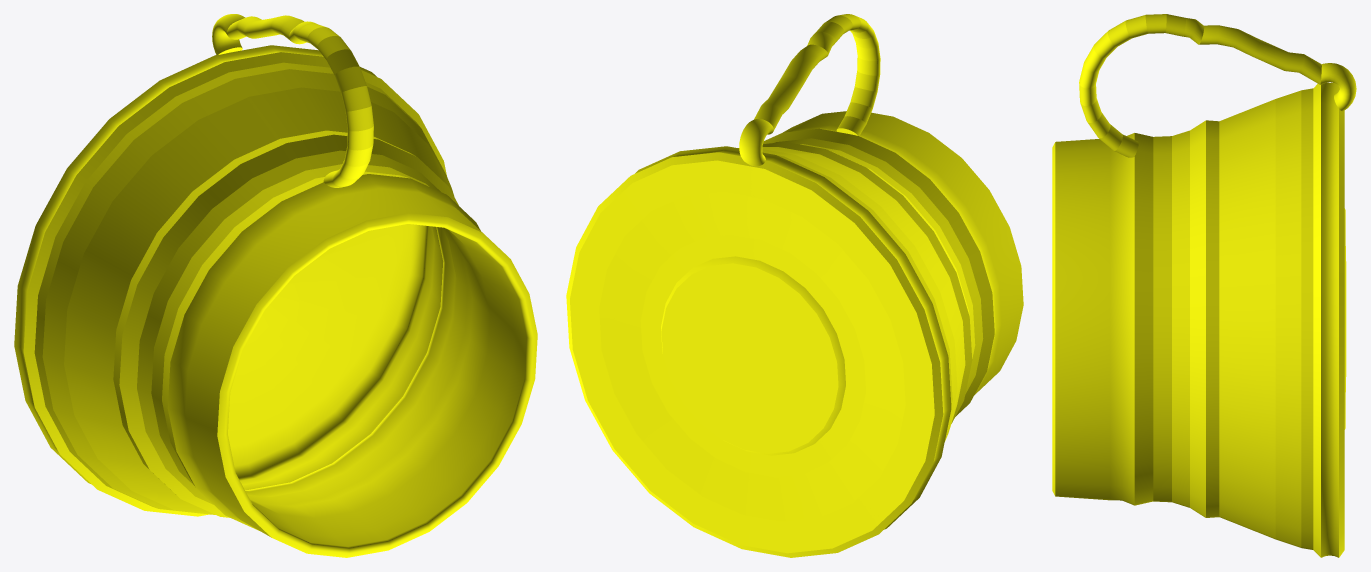
File: model_scale.obj
The picture shows the model from 3 angles, left to right: view 1: azimuth 30°, elevation 25°; view 2: azimuth 150°, elevation 25°; view 3: azimuth 270°, elevation 25°; orthographic projection. The views are drawn at different scales.
Parts seen in each view (by area): view 1: mesh3_mesh3-geometry, mesh1_mesh1-geometry; view 2: mesh3_mesh3-geometry, mesh2_mesh2-geometry, mesh1_mesh1-geometry; view 3: mesh3_mesh3-geometry, mesh1_mesh1-geometry.
Part boxes in pixels (bbox=[...]): mesh3_mesh3-geometry: bbox=[14, 45, 537, 557]; mesh1_mesh1-geometry: bbox=[212, 14, 373, 187]; mesh3_mesh3-geometry: bbox=[566, 111, 1023, 557]; mesh2_mesh2-geometry: bbox=[661, 263, 838, 453]; mesh1_mesh1-geometry: bbox=[739, 14, 880, 166]; mesh3_mesh3-geometry: bbox=[1052, 82, 1346, 557]; mesh1_mesh1-geometry: bbox=[1079, 14, 1356, 157].
Bounding box in the file's own units: 0.1054 × 0.1263 × 0.0669.
